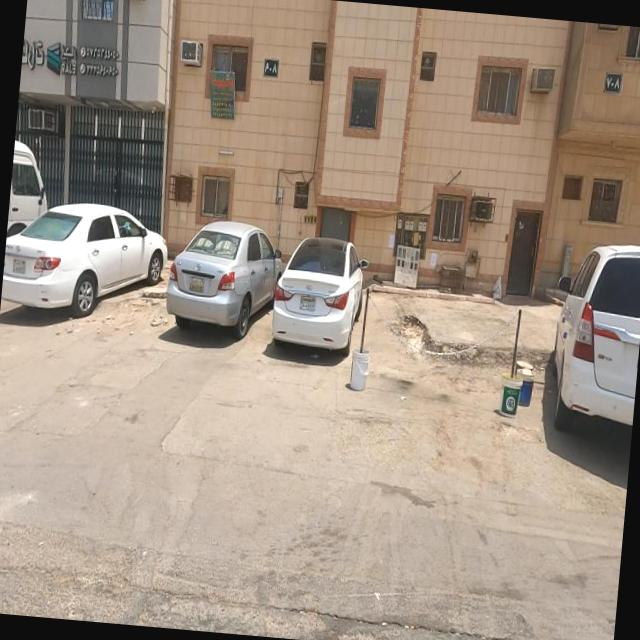debris: (472, 256, 526, 324)
